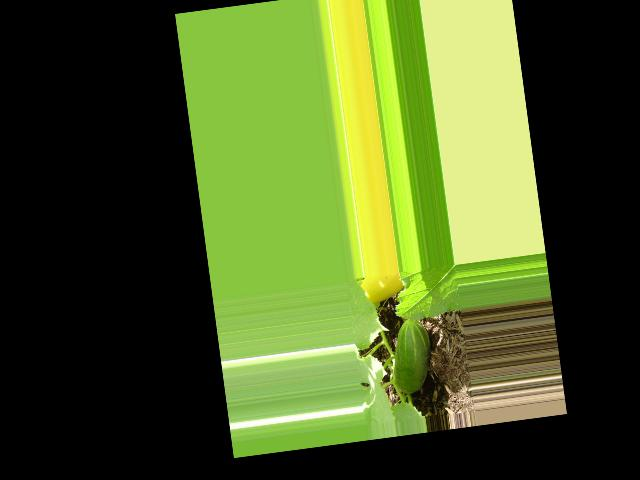cucumber: (387, 316, 437, 395)
